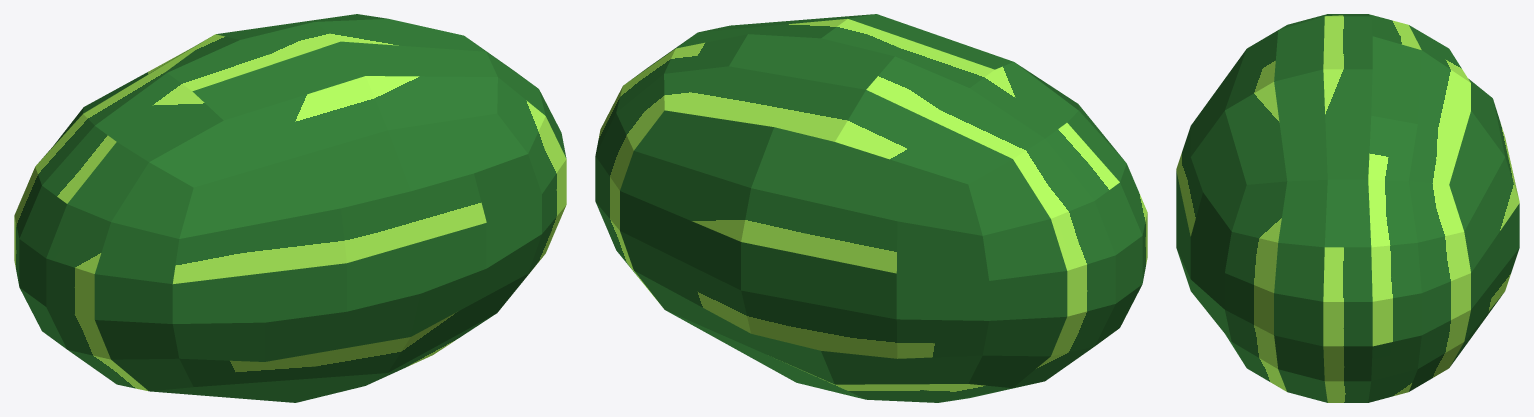
Rendered from watermelon.fbx.
3 renders of one model, left to right at view 1: azimuth 30°, elevation 25°; view 2: azimuth 150°, elevation 25°; view 3: azimuth 270°, elevation 25°, orthographic. The views are drawn at different scales.
Visible parts, largest first — view 1: watermelon; view 2: watermelon; view 3: watermelon.
Part boxes in pixels (left/top/right/bottom): watermelon: left=14, top=14, right=566, bottom=402; watermelon: left=595, top=14, right=1147, bottom=402; watermelon: left=1176, top=14, right=1519, bottom=402.
Bounding box in the file's own units: 544 × 341 × 341.
